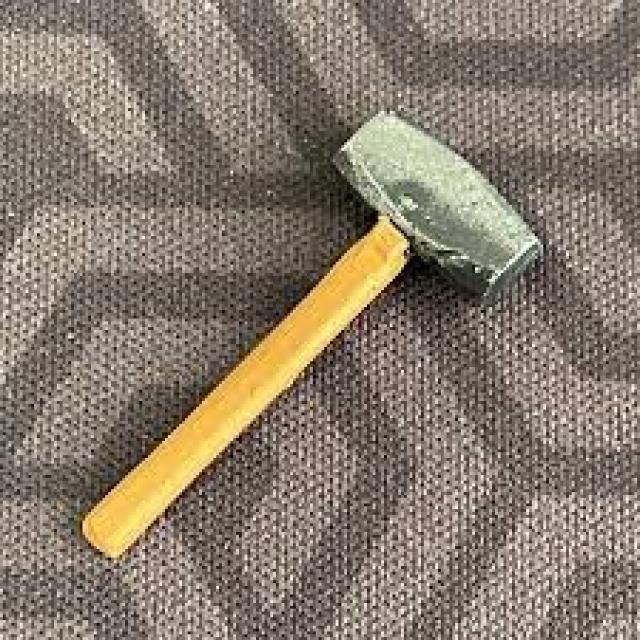hammer: (70, 102, 554, 569)
